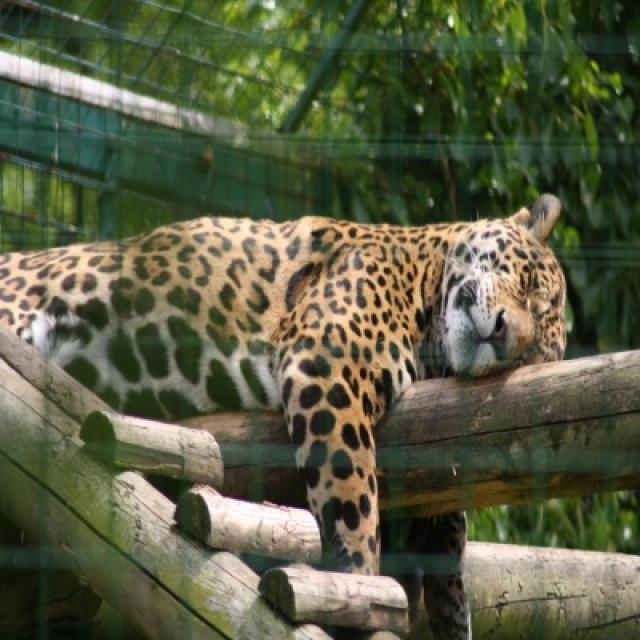Jaguar: (0, 195, 568, 581)
